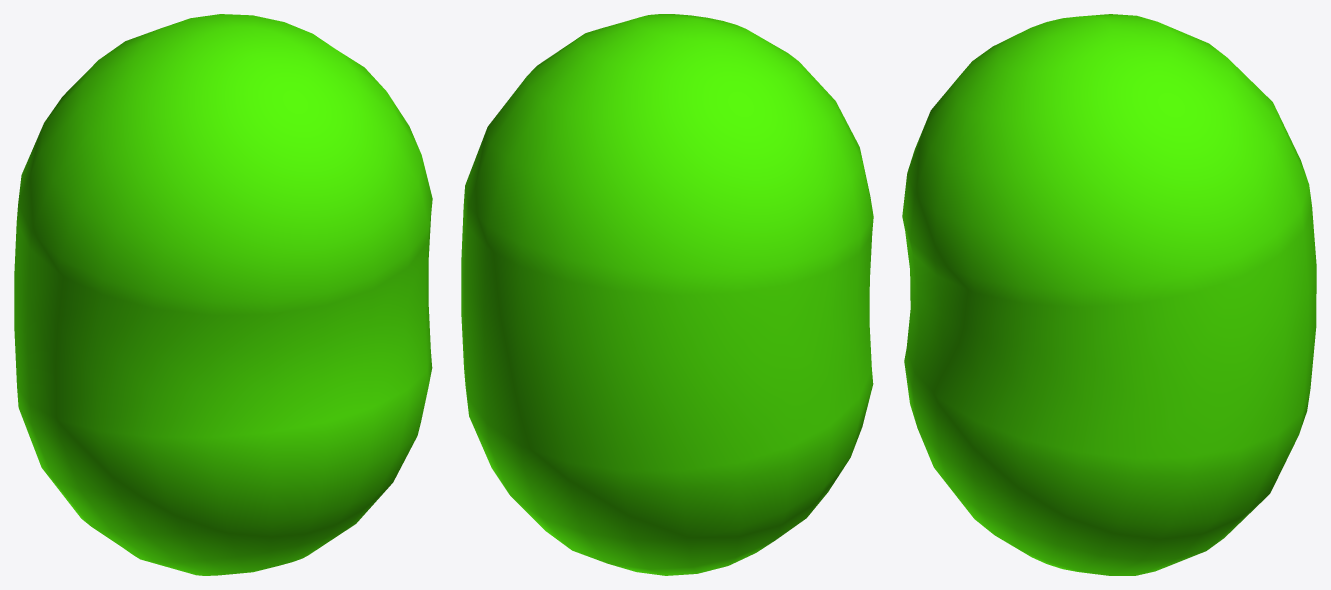
Rendered from been.fbx.
The picture shows the model from 3 angles, left to right: view 1: azimuth 30°, elevation 25°; view 2: azimuth 150°, elevation 25°; view 3: azimuth 270°, elevation 25°; orthographic projection.
Parts seen in each view (by area): view 1: Sphere001; view 2: Sphere001; view 3: Sphere001.
Boxes of the visible parts, x1,y1,x2,y2 form: Sphere001: (14,14,432,575); Sphere001: (461,14,873,575); Sphere001: (902,14,1316,575).
Size of the model in its own units: 92.93 by 93.53 by 132.
